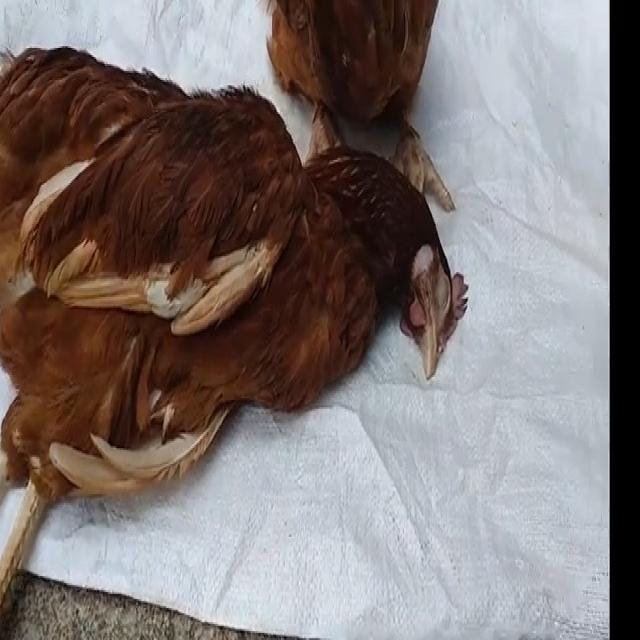dead: (0, 71, 493, 640)
